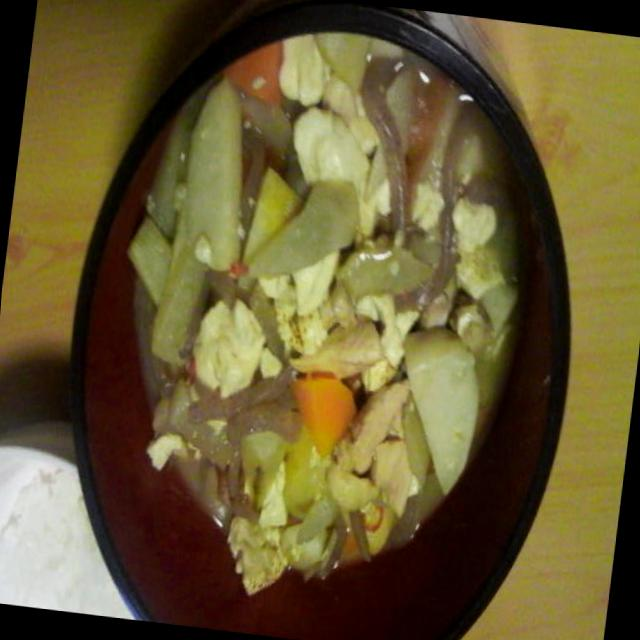Rice: (0, 471, 95, 613)
